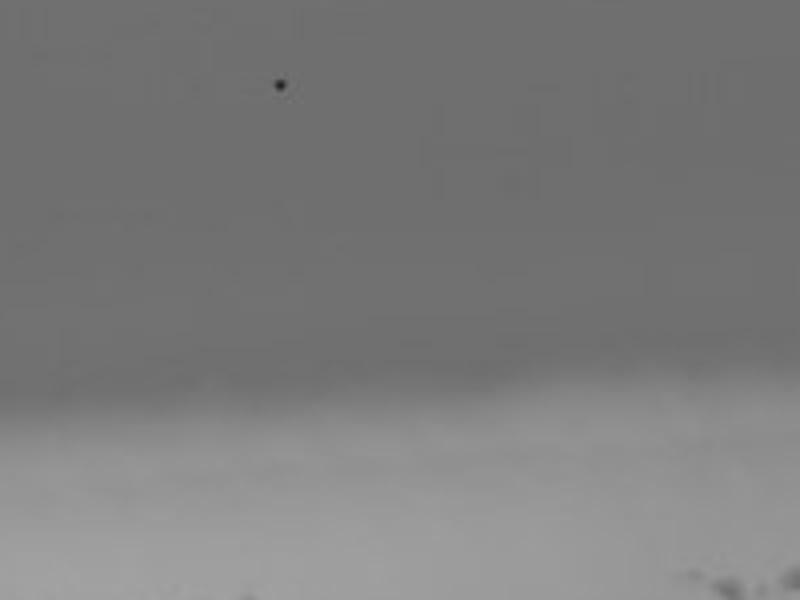defect: (709, 572, 749, 600), (778, 563, 800, 587), (270, 74, 290, 96), (749, 579, 768, 597), (686, 564, 704, 578)
